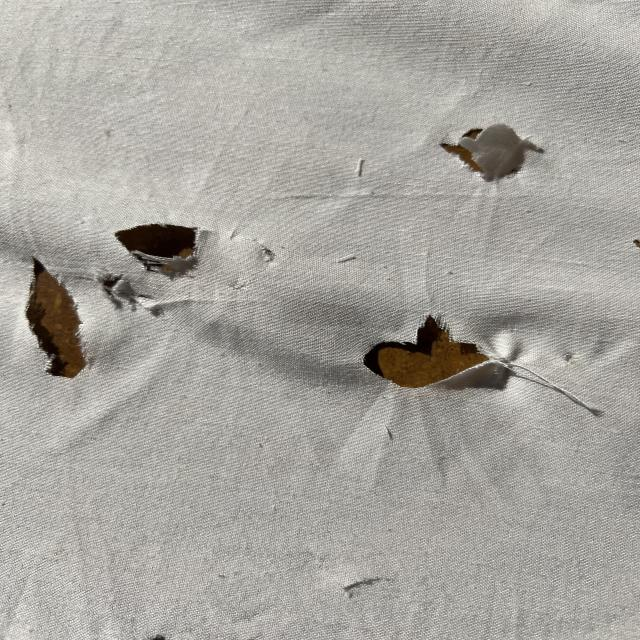Thread: (512, 360, 605, 417)
hole: (360, 314, 514, 389), (17, 252, 91, 380), (437, 120, 549, 189), (112, 222, 205, 280), (96, 273, 134, 307), (625, 234, 640, 252)
